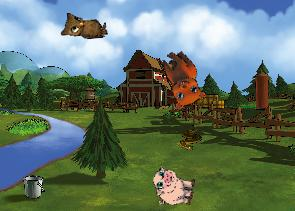bear: (146, 45, 213, 115)
owl: (59, 9, 108, 40)
pig: (150, 165, 197, 209)
